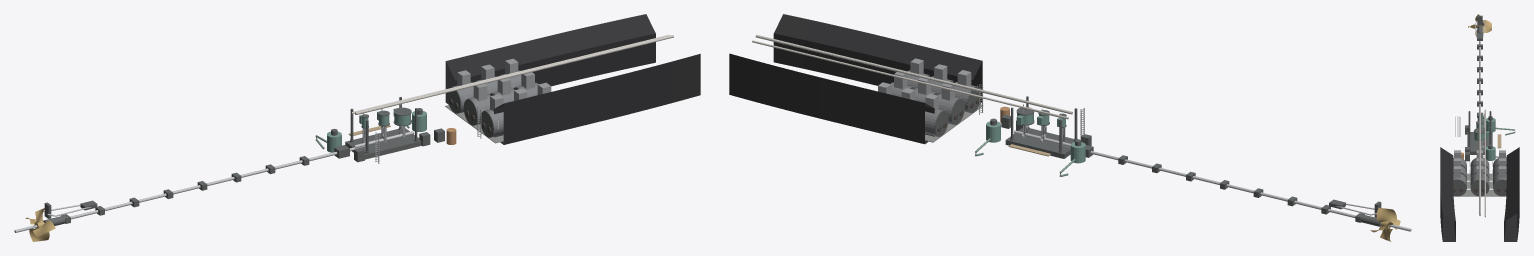
File: Machinery.glb
3 views of the same model, side by side, from view 1: azimuth 30°, elevation 25°; view 2: azimuth 150°, elevation 25°; view 3: azimuth 270°, elevation 25° (orthographic). The views are drawn at different scales.
Parts seen in each view (by area): view 1: Boiler_Rooms, Engine_Main, Steering_Gear, Propeller_Shaft, Propeller; view 2: Boiler_Rooms, Engine_Main, Steering_Gear, Propeller_Shaft, Propeller; view 3: Boiler_Rooms, Engine_Main, Steering_Gear, Propeller, Propeller_Shaft.
Boxes of the visible parts, <box> form: Boiler_Rooms: <box>351,14,700,144</box>; Engine_Main: <box>315,97,481,163</box>; Steering_Gear: <box>43,156,309,225</box>; Propeller_Shaft: <box>14,146,364,232</box>; Propeller: <box>25,208,55,241</box>; Boiler_Rooms: <box>729,14,1072,144</box>; Engine_Main: <box>975,83,1093,176</box>; Steering_Gear: <box>1118,155,1381,226</box>; Propeller_Shaft: <box>1063,145,1411,231</box>; Propeller: <box>1370,207,1400,241</box>; Boiler_Rooms: <box>1440,108,1519,241</box>; Engine_Main: <box>1455,111,1515,161</box>; Steering_Gear: <box>1474,15,1485,117</box>; Propeller: <box>1468,14,1491,36</box>; Propeller_Shaft: <box>1479,41,1480,107</box>.
Bounding box in the file's own units: 116 × 8.9 × 17.7.
